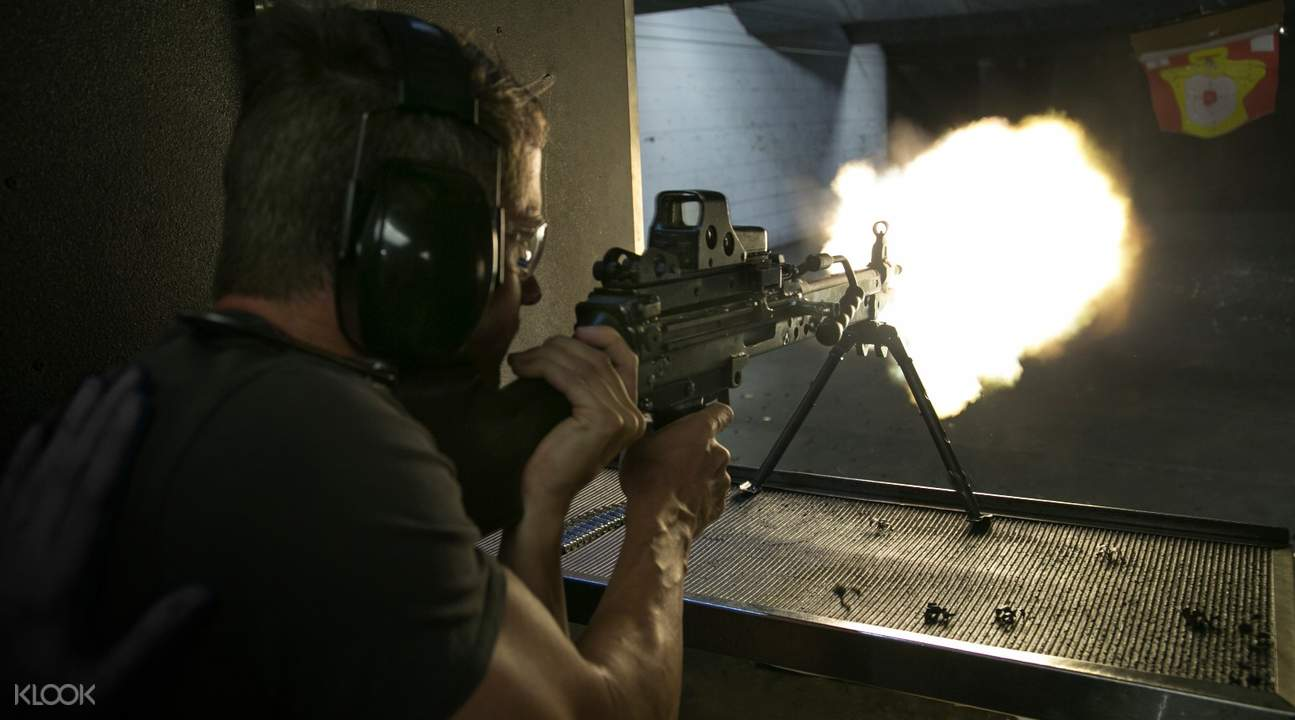gun: (517, 188, 998, 541)
